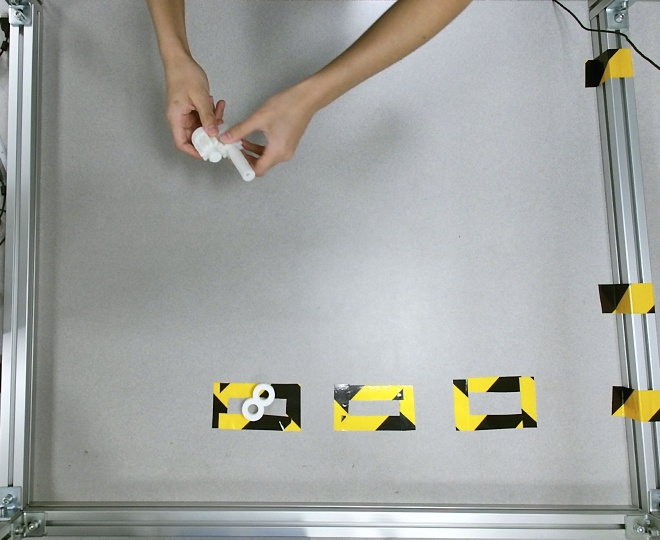stage_3: (191, 124, 255, 182)
